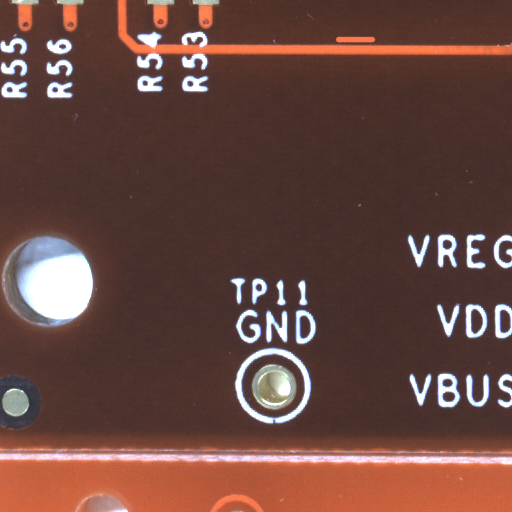Spurious_copper: (354, 39, 398, 48)
